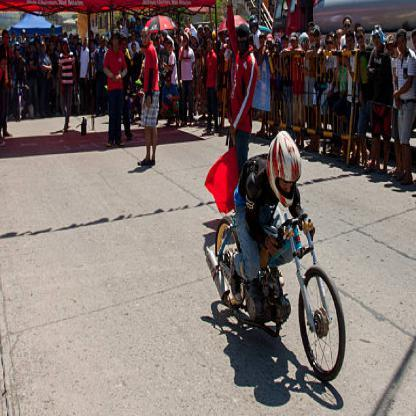Motorcycle: (207, 200, 349, 378)
